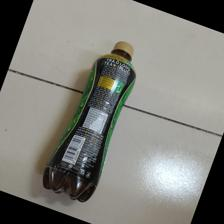Olong: (41, 40, 137, 204)
